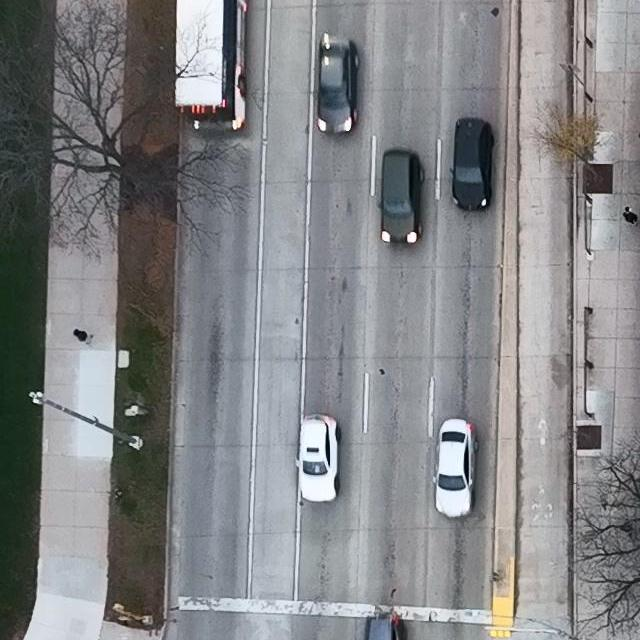car: (173, 0, 249, 130), (376, 149, 426, 246), (431, 419, 478, 519), (315, 34, 360, 137), (449, 116, 496, 211), (295, 413, 342, 503), (365, 616, 407, 640)
